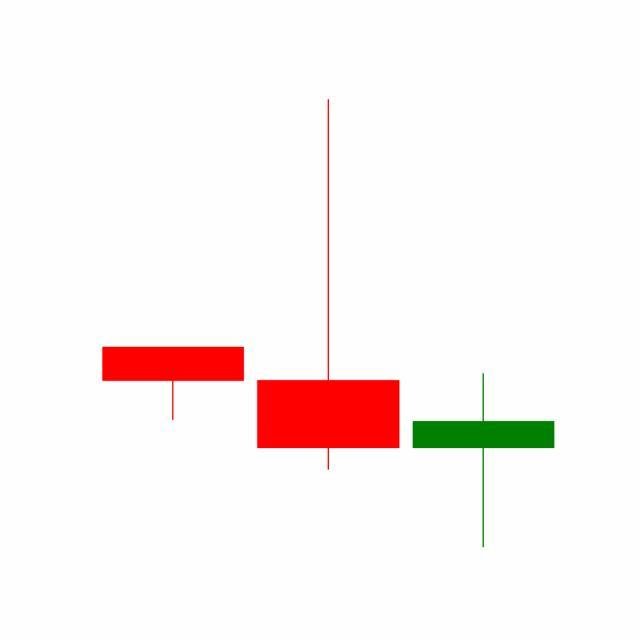Spinning Top: (406, 372, 562, 551)
